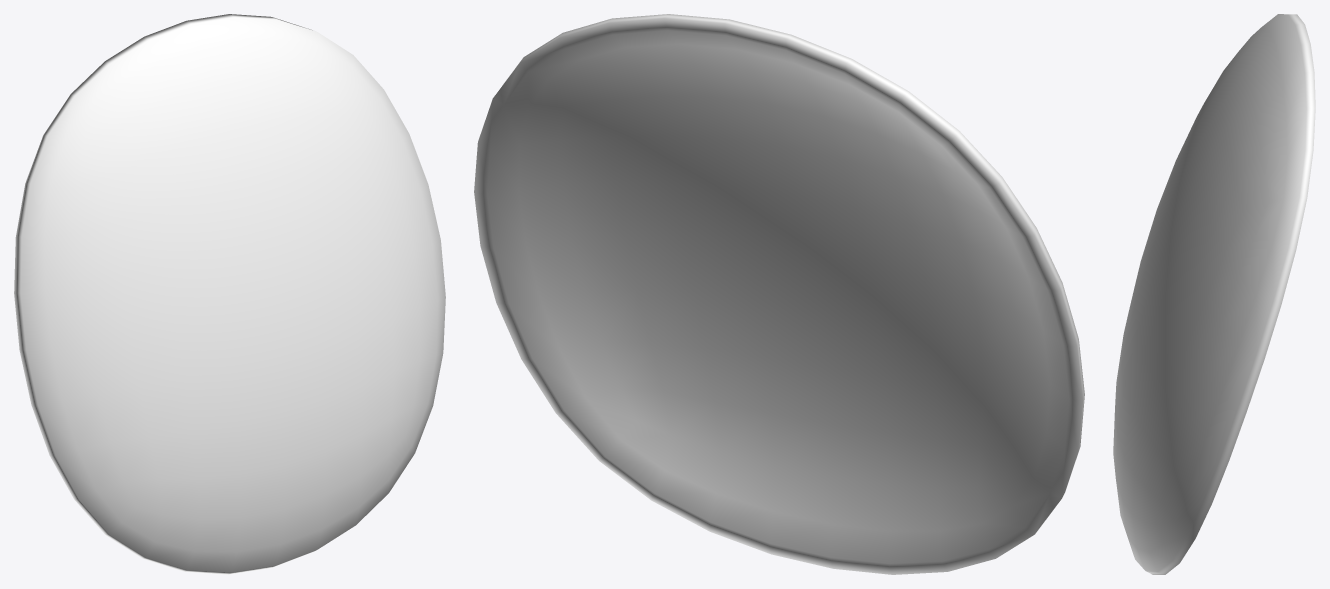
Rendered from L_whiteEye.obj.
The picture shows the model from 3 angles, left to right: view 1: azimuth 30°, elevation 25°; view 2: azimuth 150°, elevation 25°; view 3: azimuth 270°, elevation 25°; orthographic projection. The views are drawn at different scales.
Parts seen in each view (by area): view 1: L_whiteEye Jake; view 2: L_whiteEye Jake; view 3: L_whiteEye Jake.
Part boxes in pixels (left/top/right/bottom): L_whiteEye Jake: left=14, top=14, right=445, bottom=574; L_whiteEye Jake: left=474, top=14, right=1084, bottom=574; L_whiteEye Jake: left=1113, top=14, right=1315, bottom=574.
Bounding box in the file's own units: 1.56 × 1.64 × 0.6009.
